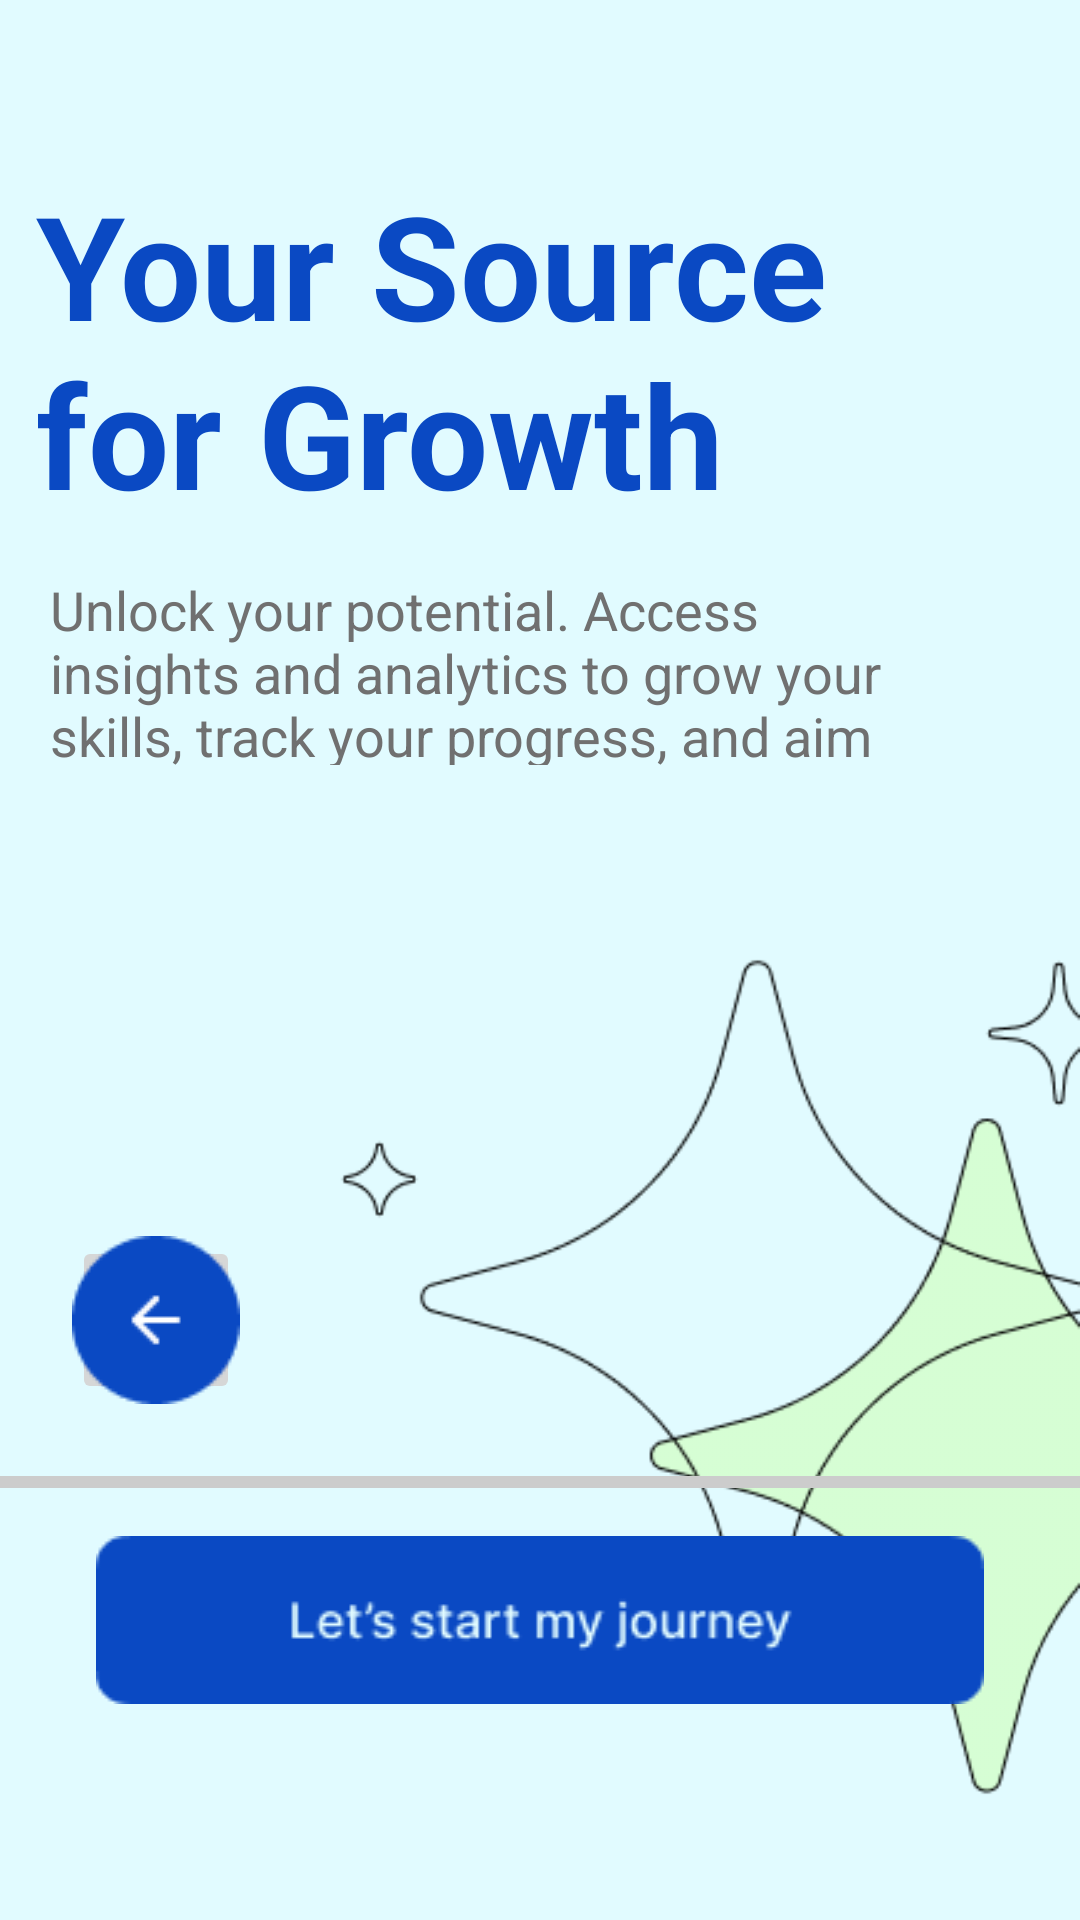

Icon bounding boxes for this 1080px x 1920px phone screenshot, format (x1, y1, x2, y2):
back: (72, 1236, 240, 1404)
